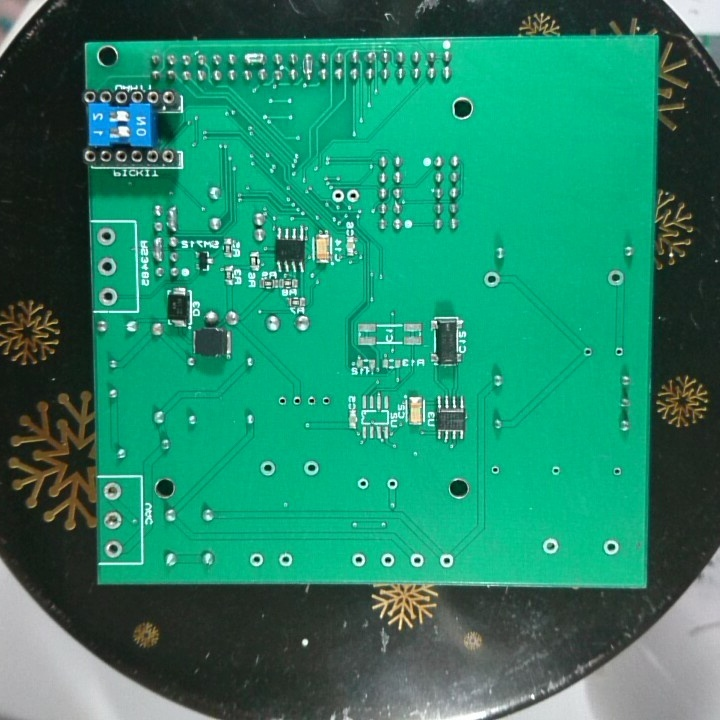F: (538, 534, 561, 560), (96, 254, 119, 278), (100, 480, 123, 503), (97, 286, 121, 308), (95, 226, 119, 248), (300, 458, 322, 480), (605, 266, 626, 289), (103, 538, 124, 560), (102, 510, 122, 533), (481, 269, 502, 289), (600, 537, 619, 559), (258, 458, 277, 479), (377, 551, 397, 570), (276, 550, 295, 570), (247, 551, 265, 572), (437, 551, 456, 570), (349, 551, 368, 570), (344, 186, 361, 206), (317, 392, 334, 412), (407, 551, 425, 569), (352, 476, 372, 492), (384, 475, 399, 495), (302, 393, 318, 411), (330, 186, 345, 204), (548, 461, 562, 480), (274, 392, 289, 409), (488, 462, 503, 478), (289, 393, 304, 409), (581, 343, 595, 360), (612, 345, 626, 358), (611, 464, 623, 479)
P: (165, 202, 180, 234), (300, 50, 314, 83), (151, 235, 166, 263), (242, 51, 268, 66)
